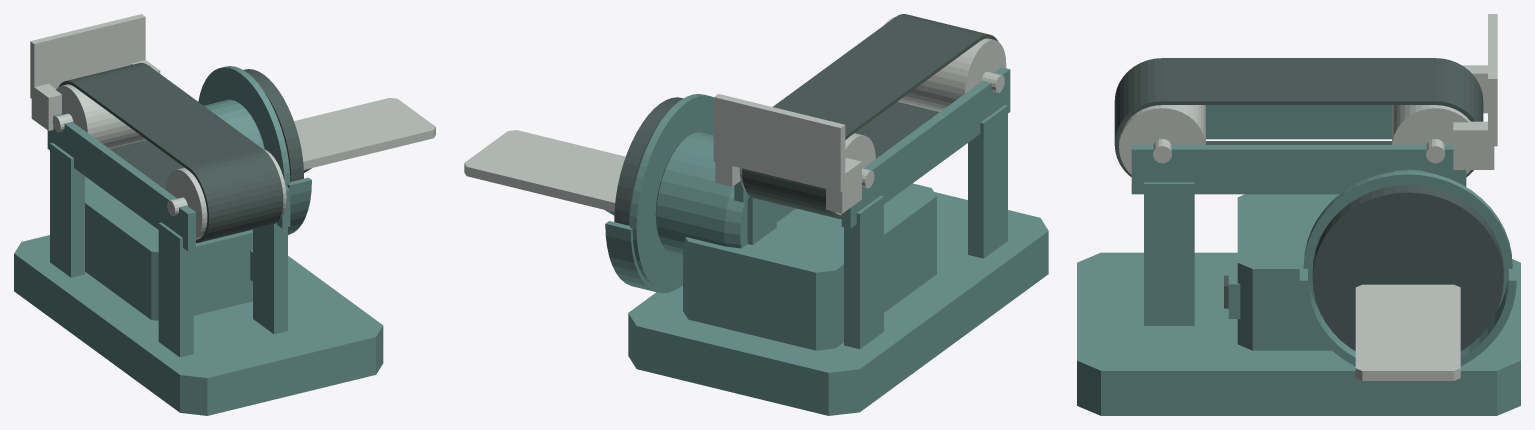
3 renders of one model, left to right at view 1: azimuth 30°, elevation 25°; view 2: azimuth 150°, elevation 25°; view 3: azimuth 270°, elevation 25°, orthographic. The views are drawn at different scales.
Visible parts, largest first — view 1: WholeCommonBenchBase, WholeLongClosedBelt, WholeIntegratedMotorPlinth, WholeRaisedEndFenceAndRoots, WholeSideDiscWorktable, WholeSideBedCheek_-0.155, WholeBedRoot_(-0.155, -0.19), WholeBedRoot_(-0.155, 0.19), WholeBedRoot_(0.035, -0.19), WholeDiscBackGuard, WholeBeltDrum_Rear, WholeBluntSideSandingDisc (+3 smaller); view 2: WholeCommonBenchBase, WholeIntegratedMotorPlinth, WholeLongClosedBelt, WholeRaisedEndFenceAndRoots, WholeSideDiscWorktable, WholeTransverseMotorCase, WholeSideBedCheek_-0.155, WholeDiscBackGuard, WholeBedRoot_(-0.155, 0.19), WholeBedRoot_(-0.155, -0.19), WholeBeltDrum_Front, WholeBluntSideSandingDisc (+3 smaller); view 3: WholeCommonBenchBase, WholeBluntSideSandingDisc, WholeLongClosedBelt, WholeSideBedCheek_0.035, WholeIntegratedMotorPlinth, WholeSideDiscWorktable, WholeBedRoot_(0.035, -0.19), WholeSideBedCheek_-0.155, WholeDiscBackGuard, WholeRaisedEndFenceAndRoots, WholeBeltDrum_Front, WholeLowerDiscRimGuard (+4 smaller).
Part boxes in pixels (x1,y1,x2,y2): WholeCommonBenchBase: (14,235,383,415); WholeLongClosedBelt: (58,63,283,242); WholeIntegratedMotorPlinth: (85,176,252,320); WholeRaisedEndFenceAndRoots: (30,14,160,130); WholeSideDiscWorktable: (294,97,435,169); WholeSideBedCheek_-0.155: (47,113,195,251); WholeBedRoot_(-0.155, -0.19): (158,222,193,357); WholeBedRoot_(-0.155, 0.19): (50,143,84,277); WholeBedRoot_(0.035, -0.19): (253,222,287,334); WholeDiscBackGuard: (198,66,290,187); WholeBeltDrum_Rear: (56,65,158,148); WholeBluntSideSandingDisc: (243,69,303,181); WholeCommonBenchBase: (628,192,1048,415); WholeIntegratedMotorPlinth: (683,183,936,350); WholeLongClosedBelt: (742,14,998,218); WholeRaisedEndFenceAndRoots: (713,94,861,213); WholeSideDiscWorktable: (464,130,625,212); WholeTransverseMotorCase: (655,132,795,255); WholeSideBedCheek_-0.155: (841,67,1010,228); WholeDiscBackGuard: (630,94,713,290); WholeBedRoot_(-0.155, 0.19): (844,195,883,349); WholeBedRoot_(-0.155, -0.19): (968,105,1007,258); WholeBeltDrum_Front: (884,17,1006,111); WholeBluntSideSandingDisc: (614,97,683,225); WholeCommonBenchBase: (1077,252,1520,415); WholeBluntSideSandingDisc: (1312,185,1503,350); WholeLongClosedBelt: (1114,58,1483,177); WholeSideBedCheek_0.035: (1131,145,1466,194); WholeIntegratedMotorPlinth: (1237,194,1339,350); WholeSideDiscWorktable: (1355,284,1460,380); WholeBedRoot_(0.035, -0.19): (1144,182,1194,325); WholeSideBedCheek_-0.155: (1206,105,1391,139); WholeDiscBackGuard: (1303,171,1512,309); WholeRaisedEndFenceAndRoots: (1453,14,1497,169); WholeBeltDrum_Front: (1119,105,1205,174); WholeLowerDiscRimGuard: (1299,267,1516,366).
Size of the model in its own units: 0.737 by 0.474 by 0.65.
